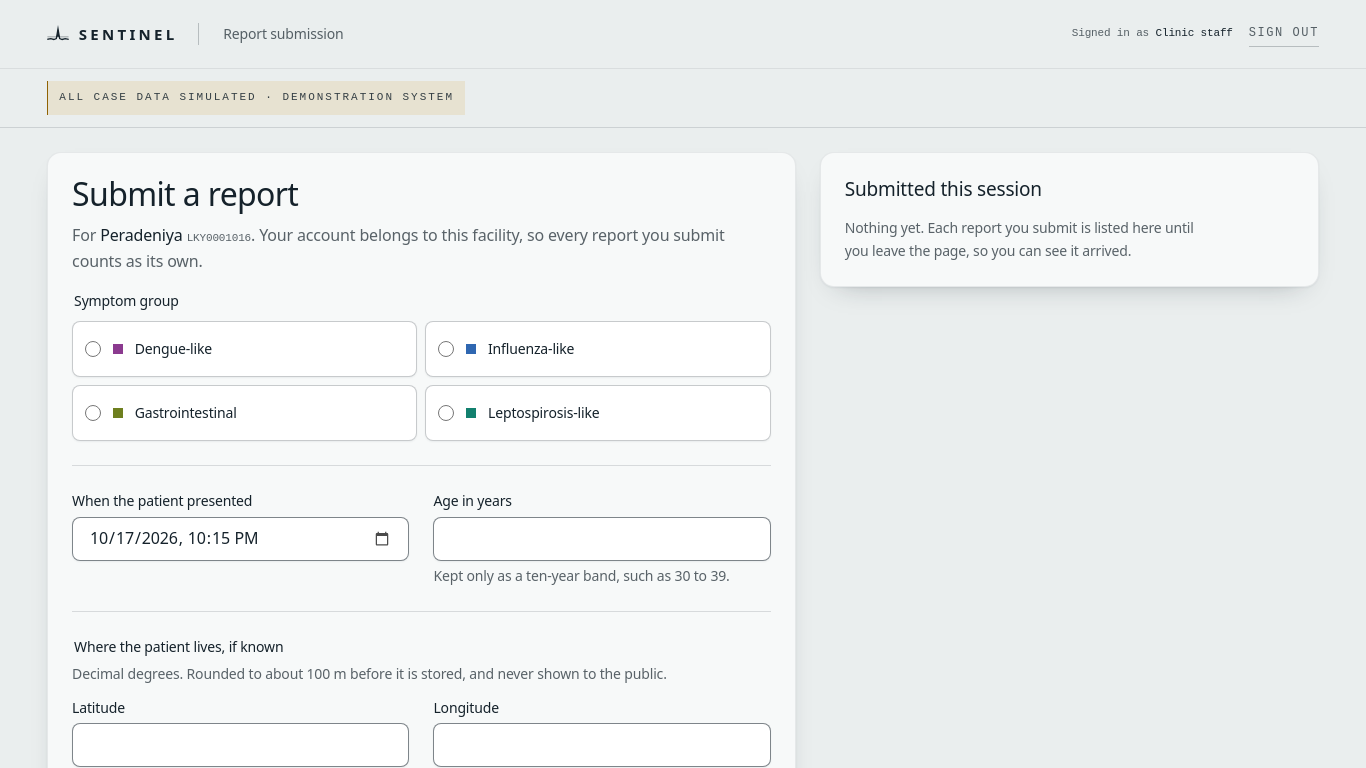
Test case: SubmitPage › submits a report and lists it
This screenshot has width=1366, height=768.
Click the radio button labelled "Dengue-like": (93, 349) [85,341,101,357]
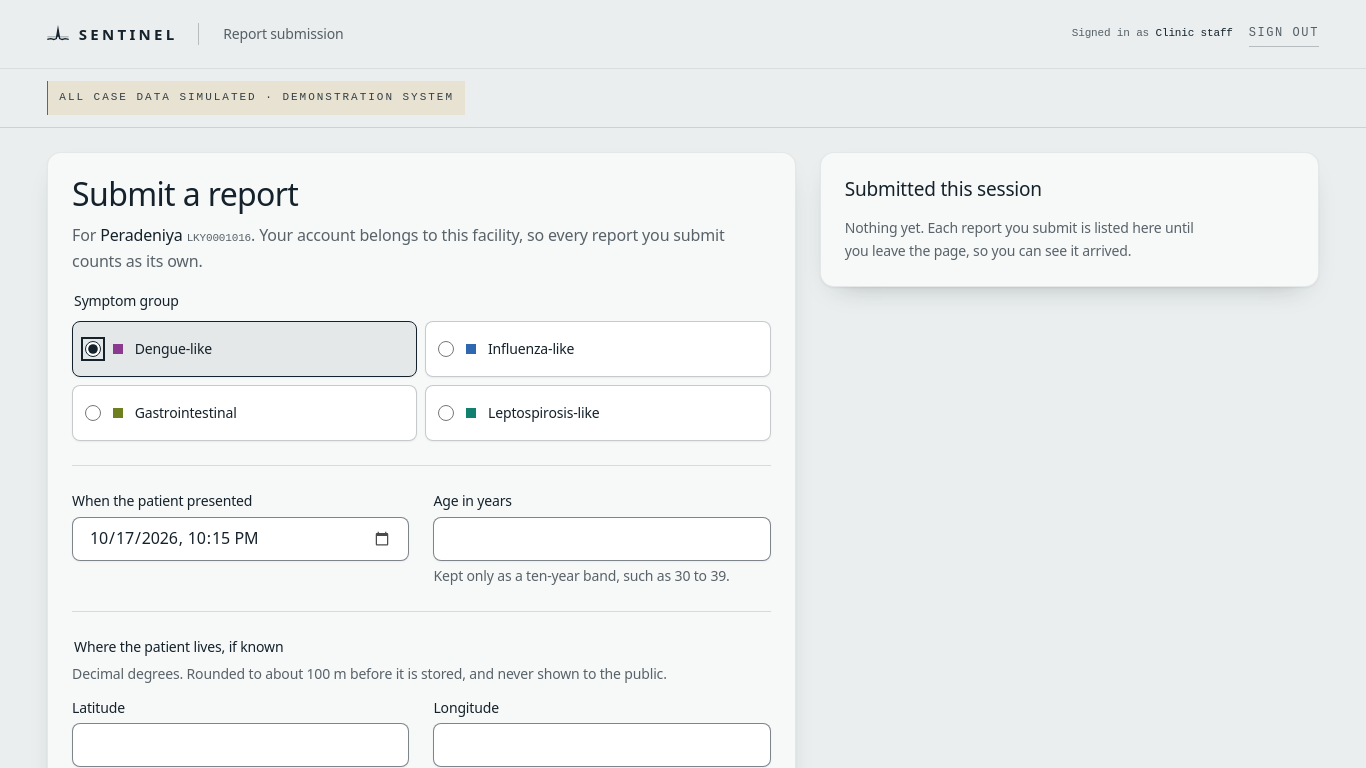
In the number field labelled "Age in years": (602, 539) [433,517,771,561], type "37"
(page scrolled)
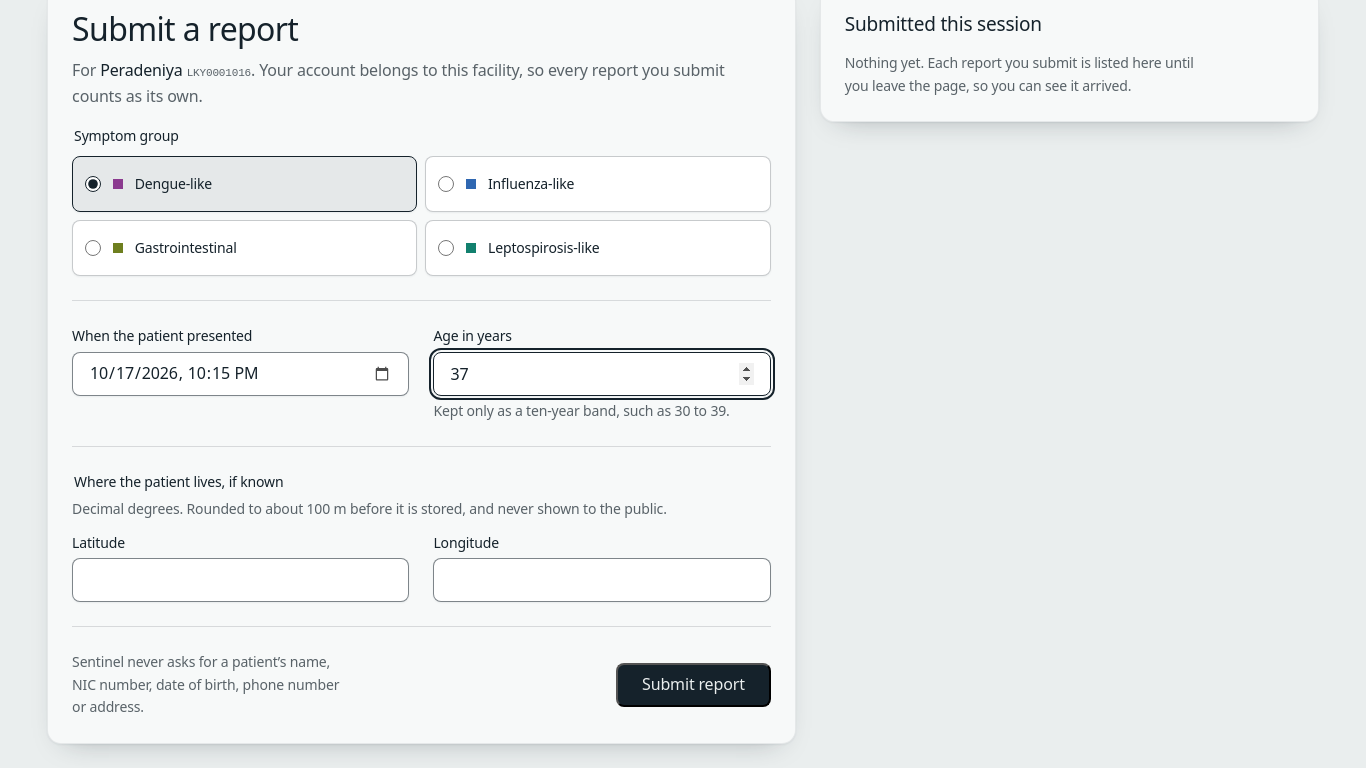
Click the button "Submit report": (693, 685) [616,663,771,707]
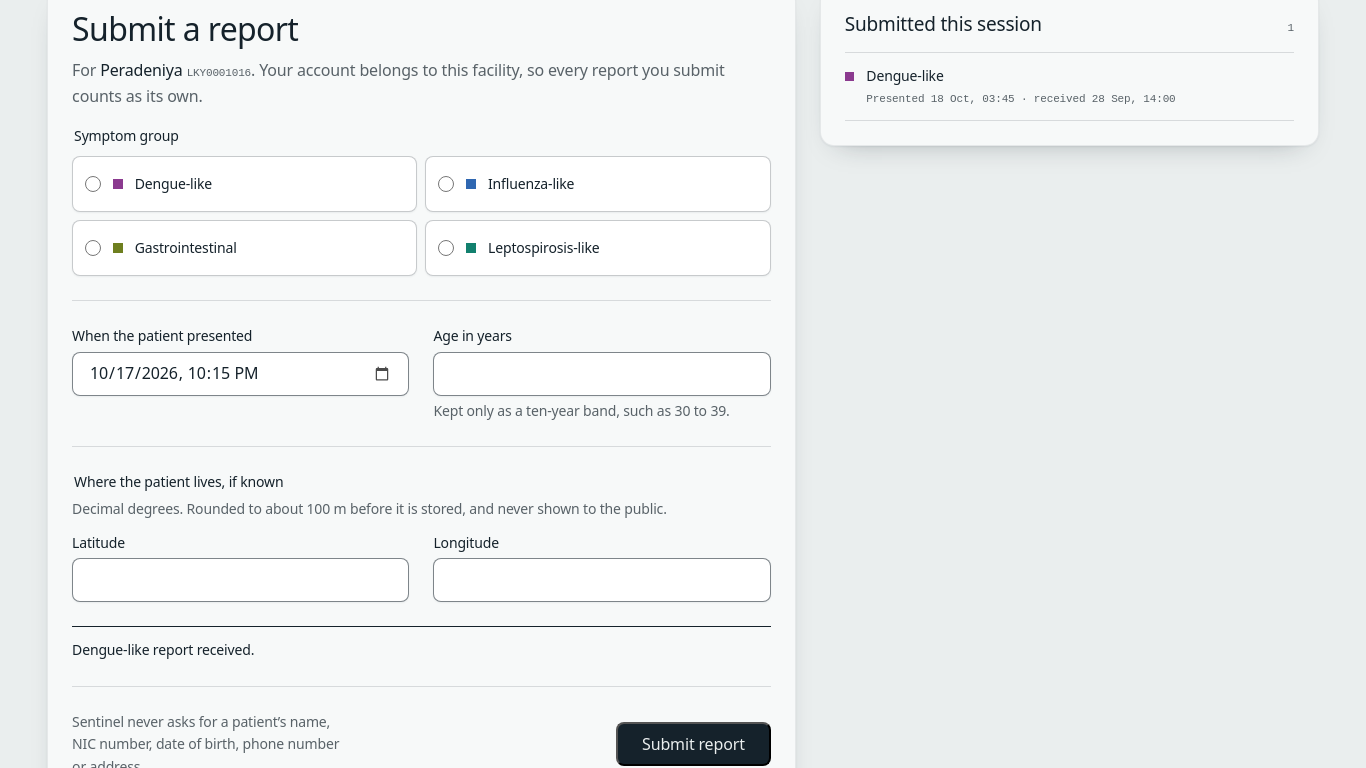
Expected: the message reads "Dengue-like report received.", [72,640,254,659]
Expected: the text "Dengue-like" is shown, [866,66,944,86]
